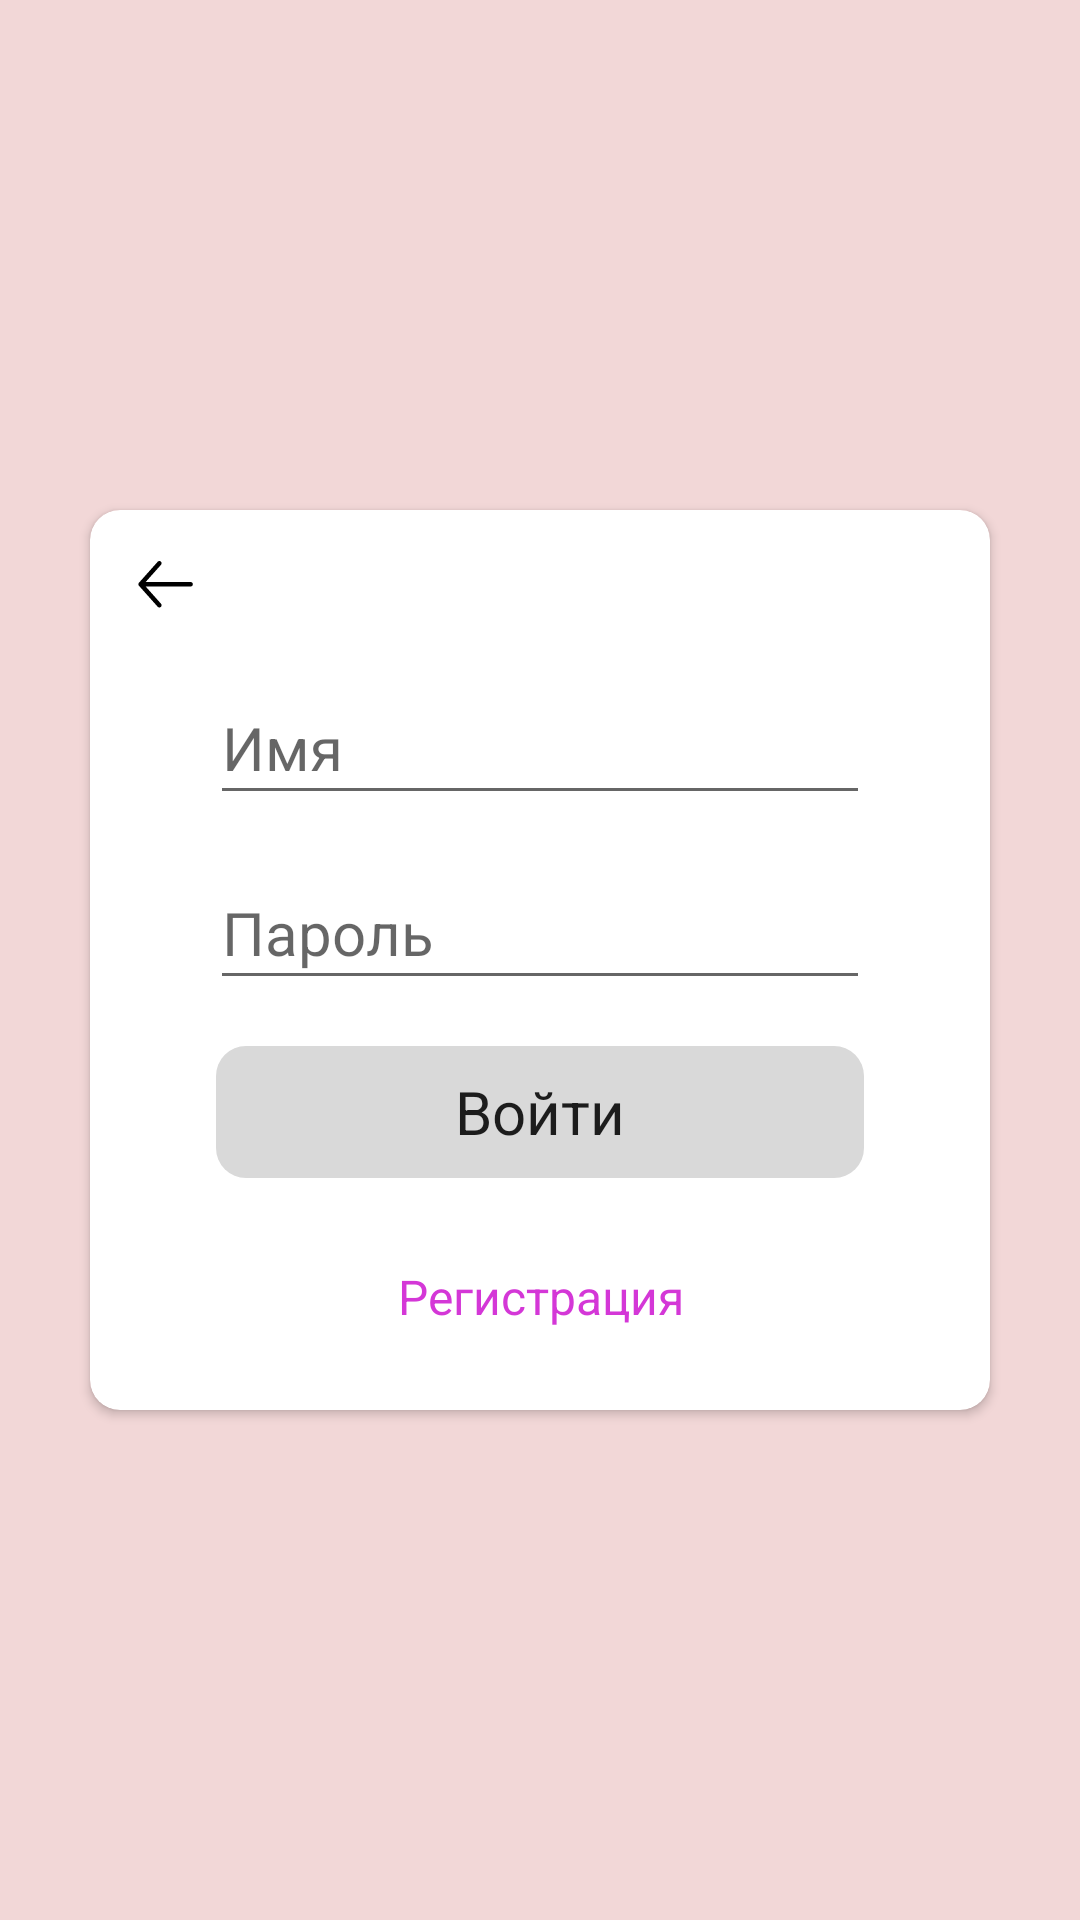

Named icons in this screenshot (1080 x 1920) and their bounding boxes, box=[x1, y1, x2, y2]:
back arrow: box=[138, 561, 193, 608]
